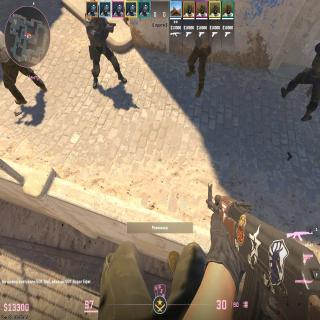CT-Body: (286, 43, 320, 118), (85, 16, 115, 87)
T-Body: (0, 30, 46, 103), (190, 30, 212, 95)
